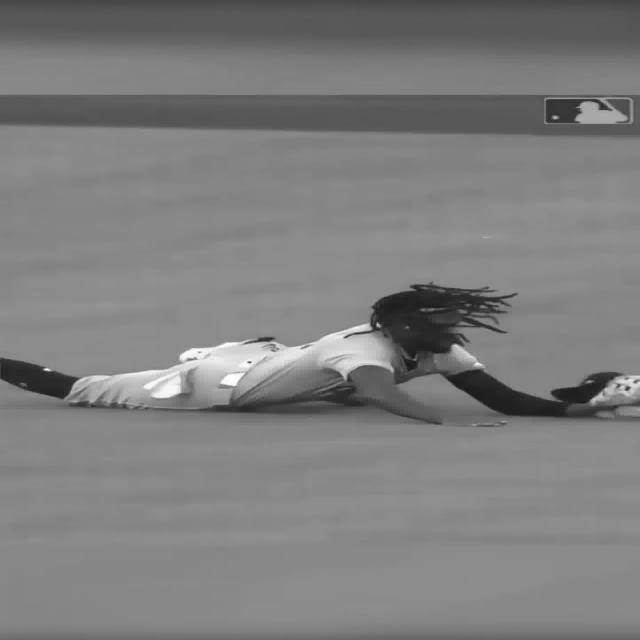baseball_glove: (589, 373, 640, 408)
shoe: (182, 334, 277, 364)
